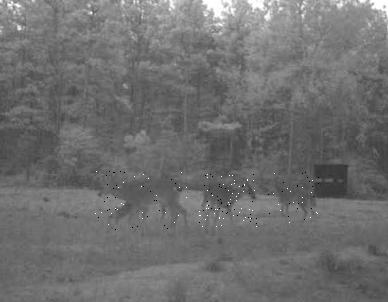Deer: (90, 170, 187, 230), (198, 174, 257, 227), (268, 170, 319, 223)
